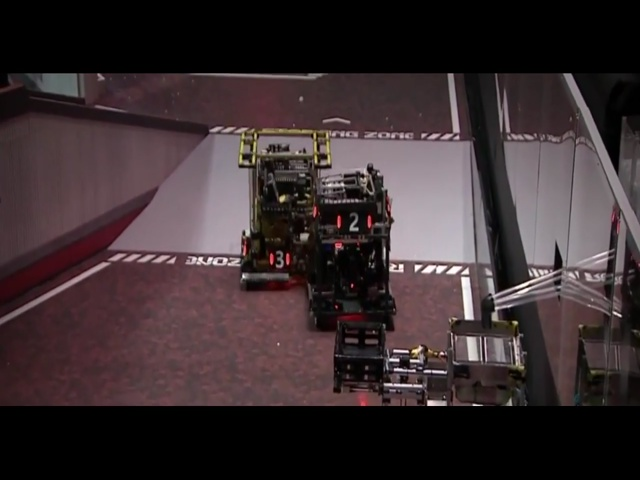plate: (267, 316, 312, 348), (267, 185, 300, 211), (418, 297, 441, 324), (262, 252, 284, 278), (327, 310, 343, 339), (385, 172, 405, 192), (348, 197, 363, 217), (374, 301, 387, 322), (329, 203, 347, 217)
